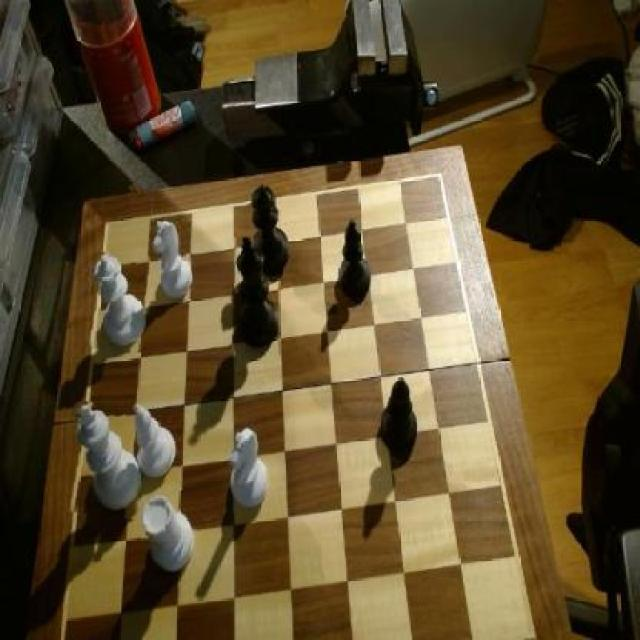bishop: (378, 376, 418, 462), (337, 217, 373, 302)
black-bishop: (232, 238, 285, 354)
black-pawn: (246, 185, 291, 278)
black-rook: (129, 403, 182, 481)
white-bishop: (70, 403, 146, 519)
white-king: (228, 426, 274, 514), (151, 219, 193, 303)
white-pawn: (91, 254, 148, 351)
white-queen: (140, 492, 198, 580)
